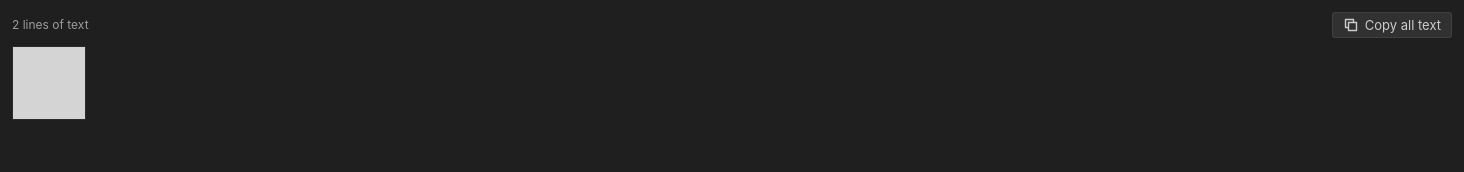
ScreenshotView › copying › says when copying failed
Click the button "Copy all text" at (1392, 25), box top-left (1332, 12), bottom-right (1452, 38)
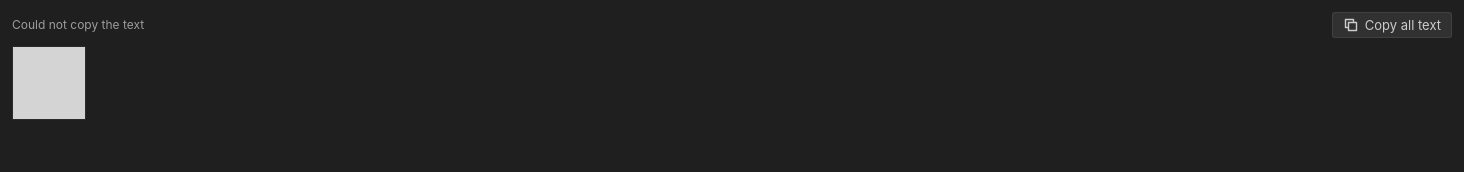
Expected: the message reads "Could not copy the text", top-left (12, 17), bottom-right (144, 32)
